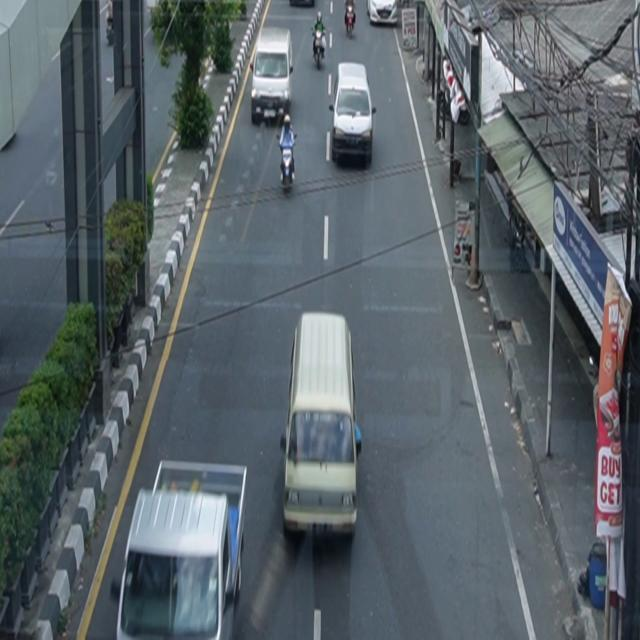car: (281, 312, 363, 540), (330, 62, 378, 168), (251, 27, 294, 126), (367, 1, 398, 26)
truck: (117, 460, 248, 640)
